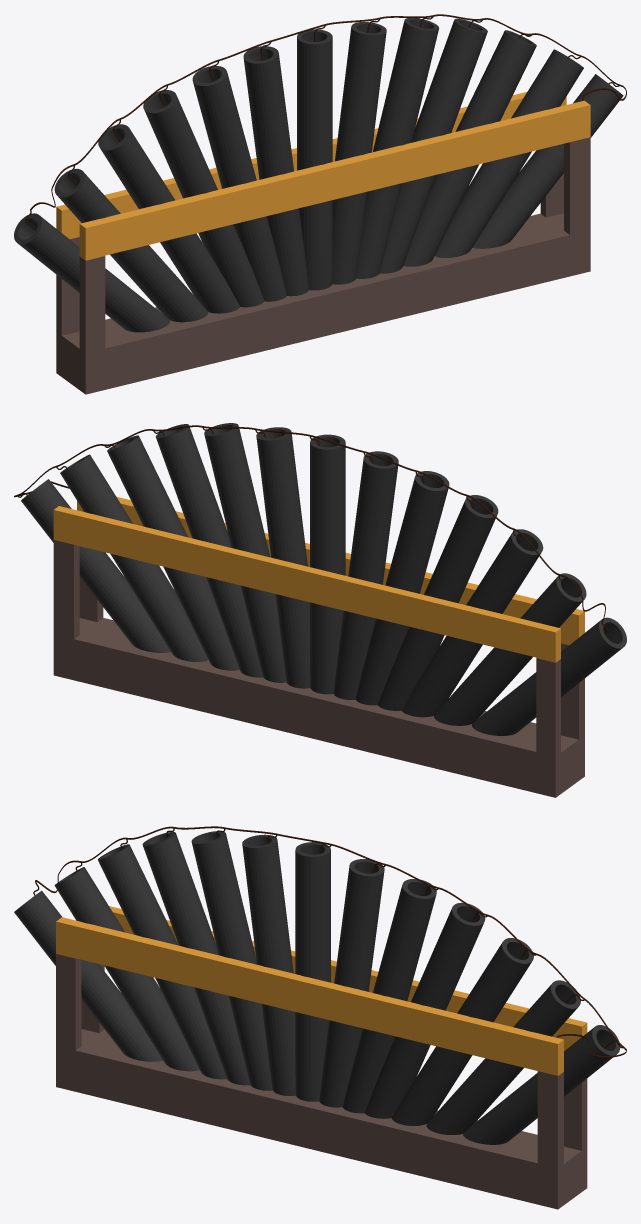
Rendered from Gold13Rack.fbx.
3 renders of one model, top to bottom at view 1: azimuth 30°, elevation 25°; view 2: azimuth 150°, elevation 25°; view 3: azimuth 330°, elevation 25°, orthographic.
Visible parts, largest first — view 1: Cube, Cylinder.001, Cylinder.012, Cylinder.003, Cylinder.002, Cylinder.005, Cylinder.006, Cylinder.004, Cylinder, Cylinder.007, Cylinder.008, Cylinder.010 (+3 smaller); view 2: Cube, Cylinder.001, Cylinder.012, Cylinder.003, Cylinder.002, Cylinder.005, Cylinder.006, Cylinder.004, Cylinder, Cylinder.008, Cylinder.007, Cylinder.010 (+3 smaller); view 3: Cube, Cylinder.012, Cylinder.002, Cylinder.004, Cylinder.001, Cylinder, Cylinder.003, Cylinder.005, Cylinder.007, Cylinder.006, Cylinder.010, Cylinder.008 (+3 smaller).
Boxes of the visible parts, x1=… form: Cube: x1=56, y1=92, x2=590, y2=394; Cylinder.001: x1=332, y1=22, x2=386, y2=284; Cylinder.012: x1=297, y1=29, x2=332, y2=290; Cylinder.003: x1=356, y1=18, x2=439, y2=278; Cylinder.002: x1=243, y1=46, x2=308, y2=296; Cylinder.005: x1=379, y1=18, x2=487, y2=273; Cylinder.006: x1=403, y1=30, x2=536, y2=266; Cylinder.004: x1=192, y1=66, x2=286, y2=301; Cylinder: x1=143, y1=90, x2=264, y2=307; Cylinder.007: x1=98, y1=124, x2=240, y2=313; Cylinder.008: x1=435, y1=49, x2=583, y2=257; Cylinder.010: x1=54, y1=168, x2=208, y2=322; Cube: x1=53, y1=496, x2=584, y2=797; Cylinder.001: x1=256, y1=427, x2=310, y2=688; Cylinder.012: x1=310, y1=434, x2=345, y2=694; Cylinder.003: x1=204, y1=423, x2=286, y2=682; Cylinder.002: x1=333, y1=451, x2=398, y2=699; Cylinder.005: x1=155, y1=424, x2=262, y2=677; Cylinder.006: x1=107, y1=435, x2=239, y2=670; Cylinder.004: x1=355, y1=471, x2=449, y2=705; Cylinder: x1=378, y1=495, x2=498, y2=710; Cylinder.008: x1=60, y1=454, x2=208, y2=661; Cylinder.007: x1=401, y1=529, x2=543, y2=717; Cylinder.010: x1=434, y1=573, x2=586, y2=725; Cube: x1=56, y1=906, x2=587, y2=1209; Cylinder.012: x1=295, y1=842, x2=330, y2=1101; Cylinder.002: x1=242, y1=834, x2=295, y2=1095; Cylinder.004: x1=191, y1=831, x2=272, y2=1090; Cylinder.001: x1=319, y1=859, x2=384, y2=1107; Cylinder: x1=142, y1=832, x2=250, y2=1085; Cylinder.003: x1=342, y1=879, x2=436, y2=1113; Cylinder.005: x1=365, y1=902, x2=485, y2=1118; Cylinder.007: x1=98, y1=844, x2=226, y2=1079; Cylinder.006: x1=391, y1=938, x2=533, y2=1125; Cylinder.010: x1=54, y1=867, x2=199, y2=1071; Cylinder.008: x1=426, y1=980, x2=580, y2=1134.
Size of the model in its own units: 593 by 273 by 49.47.
